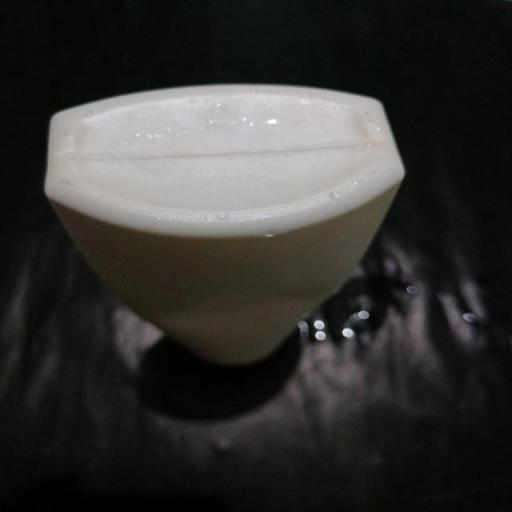plastic: (10, 53, 434, 400)
